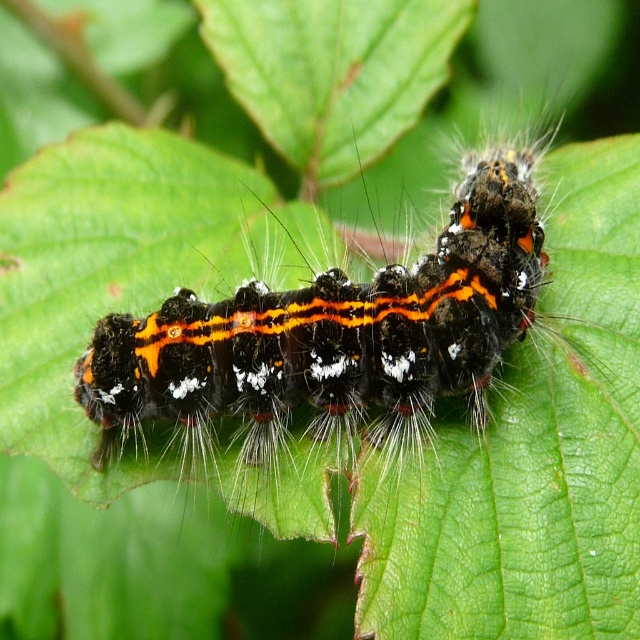Caterpillar: (71, 56, 625, 561)
